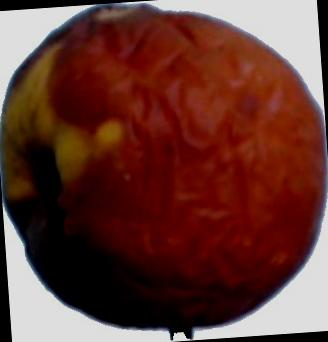Apple Overripe: (0, 0, 328, 335)
